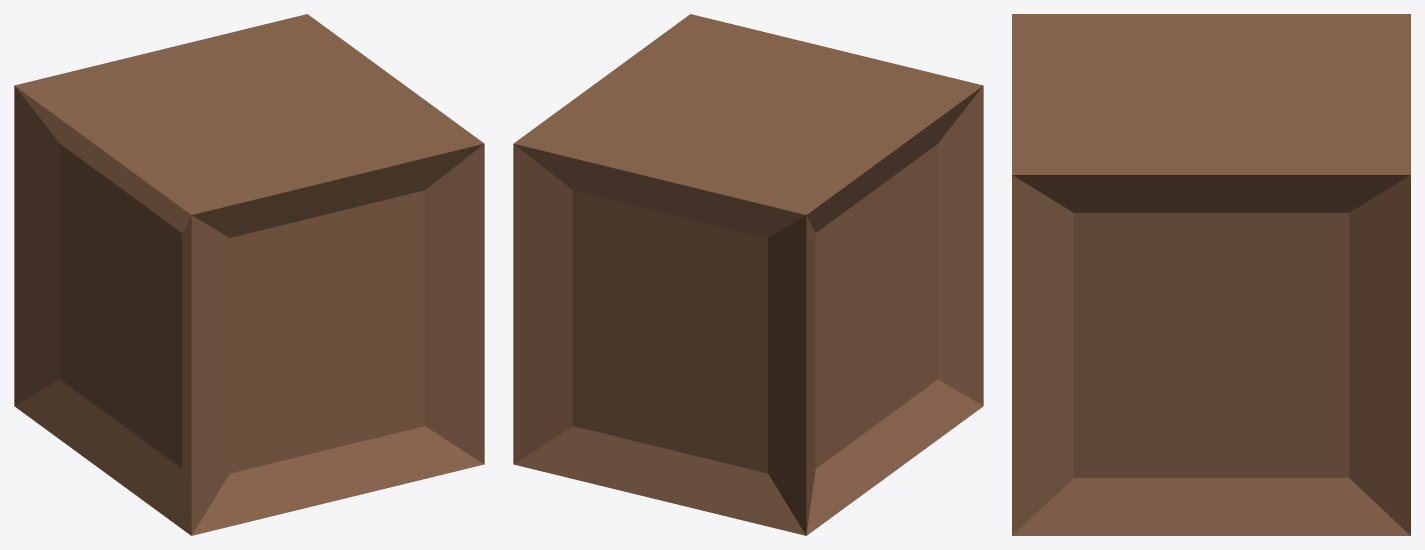
Rendered from Crate.fbx.
The picture shows the model from 3 angles, left to right: view 1: azimuth 30°, elevation 25°; view 2: azimuth 150°, elevation 25°; view 3: azimuth 270°, elevation 25°; orthographic projection. The views are drawn at different scales.
Visible parts, largest first — view 1: Cube; view 2: Cube; view 3: Cube.
Boxes of the visible parts, bbox=[...] form: Cube: bbox=[14, 14, 484, 535]; Cube: bbox=[513, 14, 983, 535]; Cube: bbox=[1012, 14, 1410, 535].
Bounding box in the file's own units: 191 × 200 × 200.
